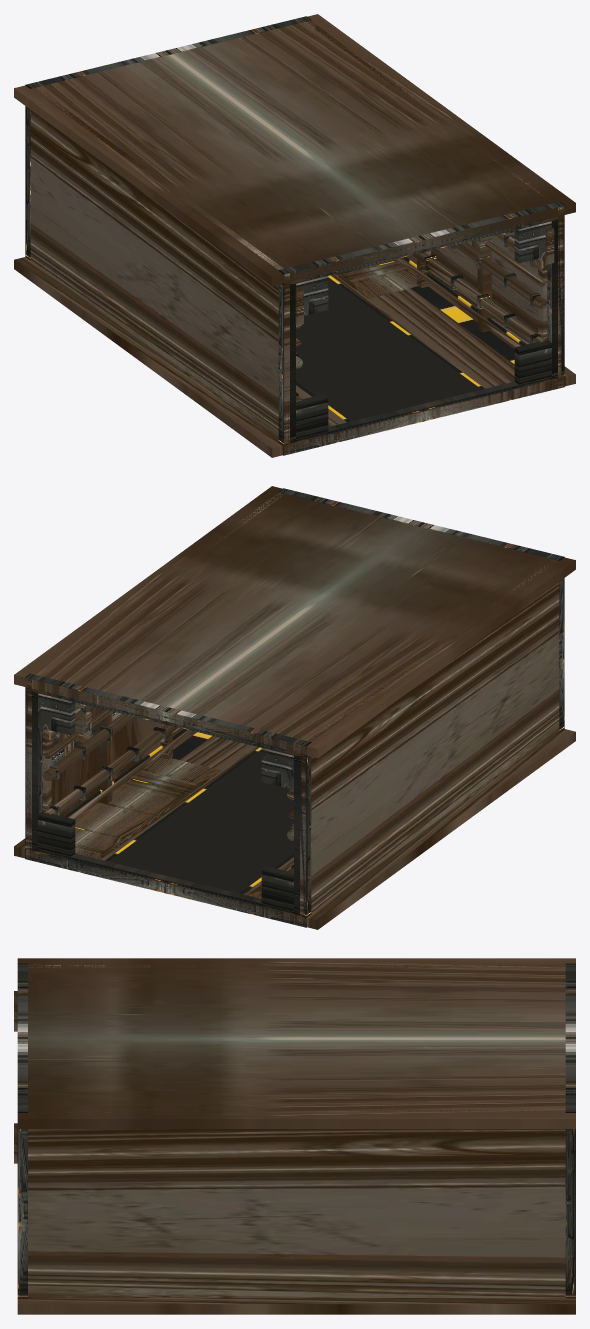
File: hangar_ic_koridor_ankora.glb
3 renders of one model, top to bottom at view 1: azimuth 30°, elevation 25°; view 2: azimuth 150°, elevation 25°; view 3: azimuth 270°, elevation 25°, orthographic. The views are drawn at different scales.
Parts seen in each view (by area): view 1: LOD0_koridor; view 2: LOD0_koridor; view 3: LOD0_koridor.
Boxes of the visible parts, x1,y1,x2,y2 form: LOD0_koridor: [14, 14, 575, 457]; LOD0_koridor: [14, 486, 575, 929]; LOD0_koridor: [14, 958, 575, 1314].
Size of the model in its own units: 10.2 by 5.84 by 15.1.
1 material, 1 textured.
